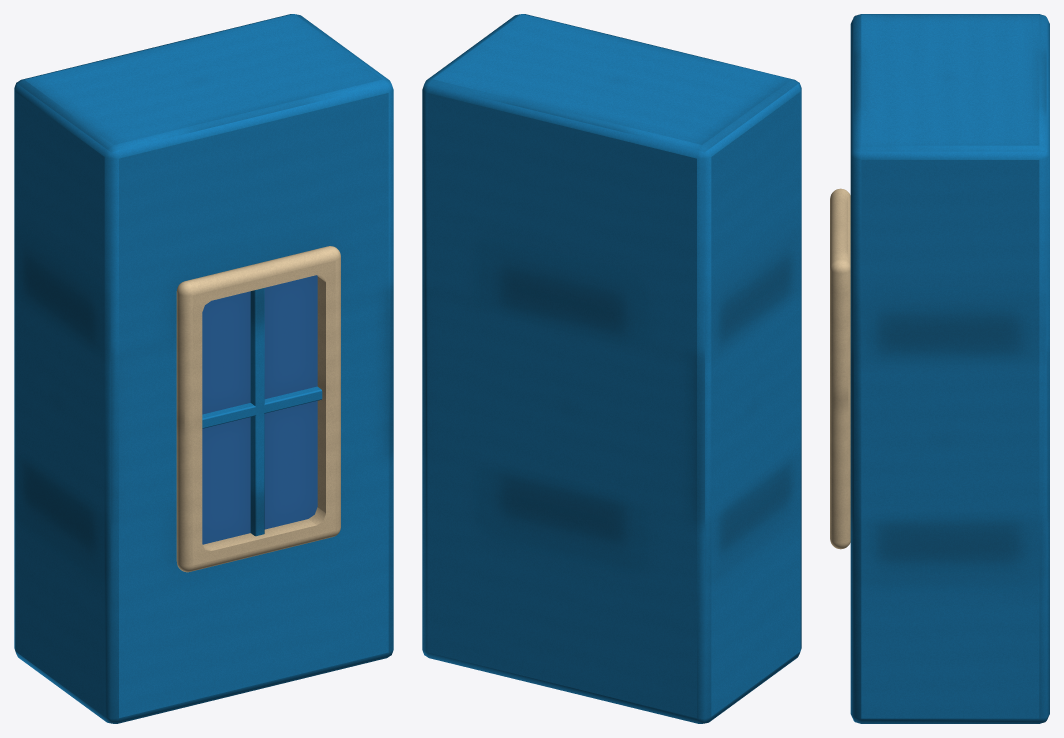
Rendered from 1-blue-block-pier.fbx.
3 renders of one model, left to right at view 1: azimuth 30°, elevation 25°; view 2: azimuth 150°, elevation 25°; view 3: azimuth 270°, elevation 25°, orthographic.
Parts seen in each view (by area): view 1: blue-block-pier; view 2: blue-block-pier; view 3: blue-block-pier.
Boxes of the visible parts, x1=… form: blue-block-pier: x1=14, y1=14, x2=393, y2=723; blue-block-pier: x1=422, y1=14, x2=801, y2=723; blue-block-pier: x1=830, y1=14, x2=1049, y2=723.
Bounding box in the file's own units: 5000 × 9600 × 3310.
1 material, 1 textured.
